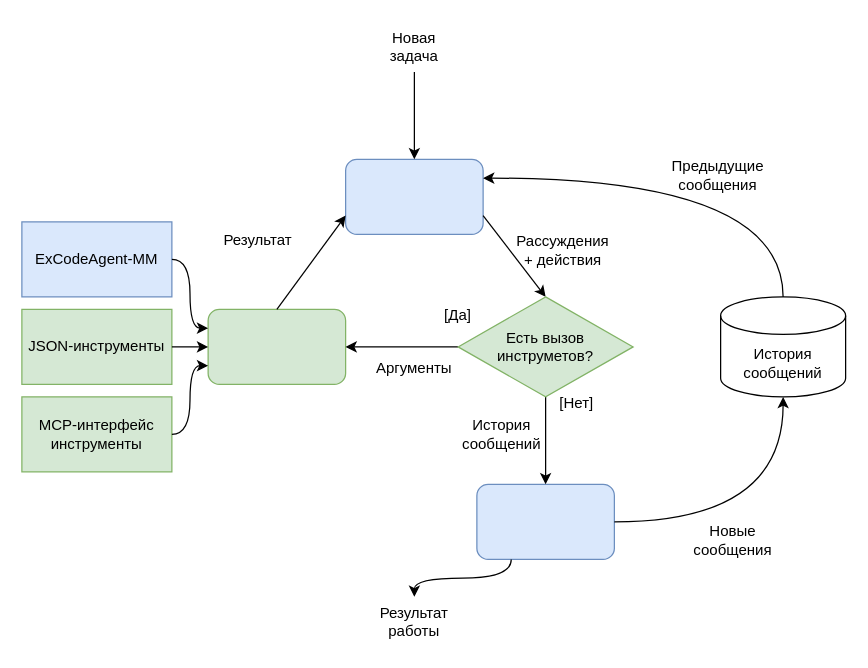
Some shapes in this 868 by 668 pixel diagram are drawn without their labels. Here are the shapes that lost their labels. From the top down, the box of each, then its label:
(344, 158, 483, 234): LLM (CoT)
(207, 308, 346, 384): Инструменты
(476, 483, 614, 559): LLM-reporter
